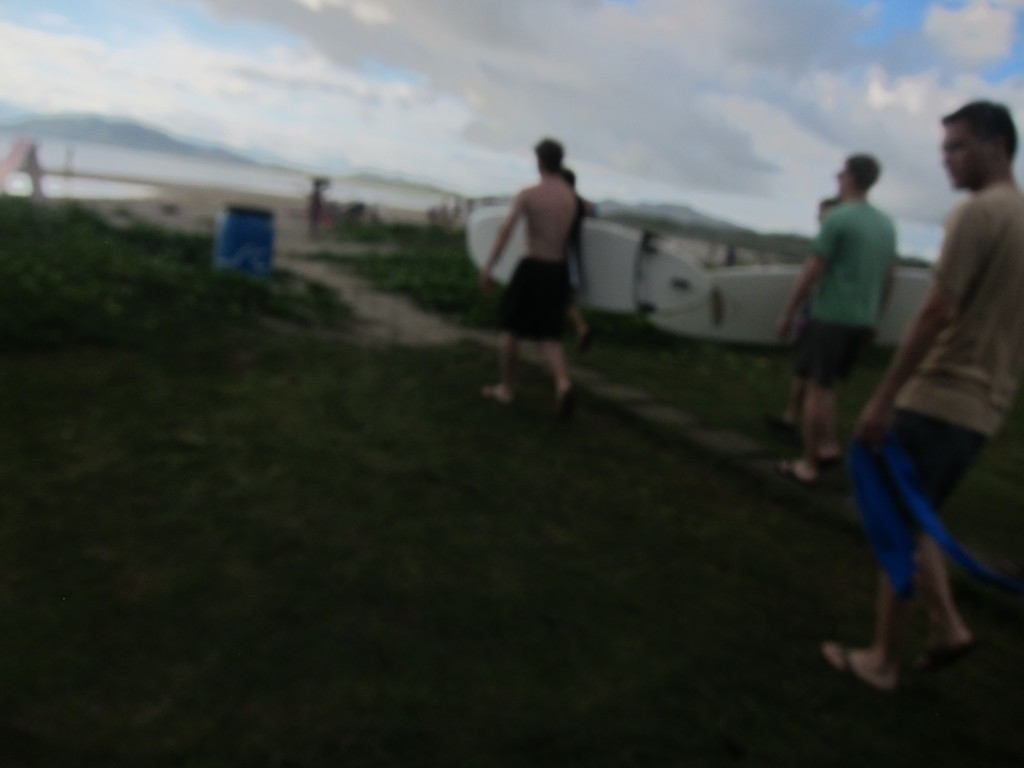Human_hand: (851, 397, 902, 451), (774, 314, 796, 347), (478, 271, 493, 291)
